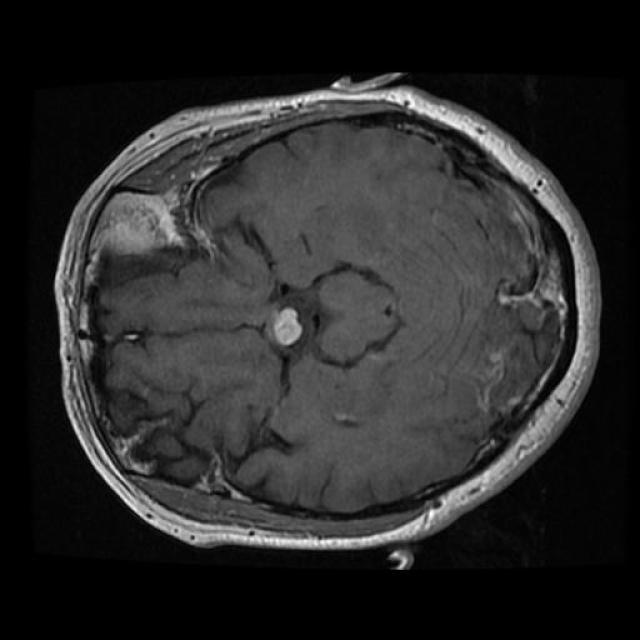Pituitary: (273, 307, 302, 346)
